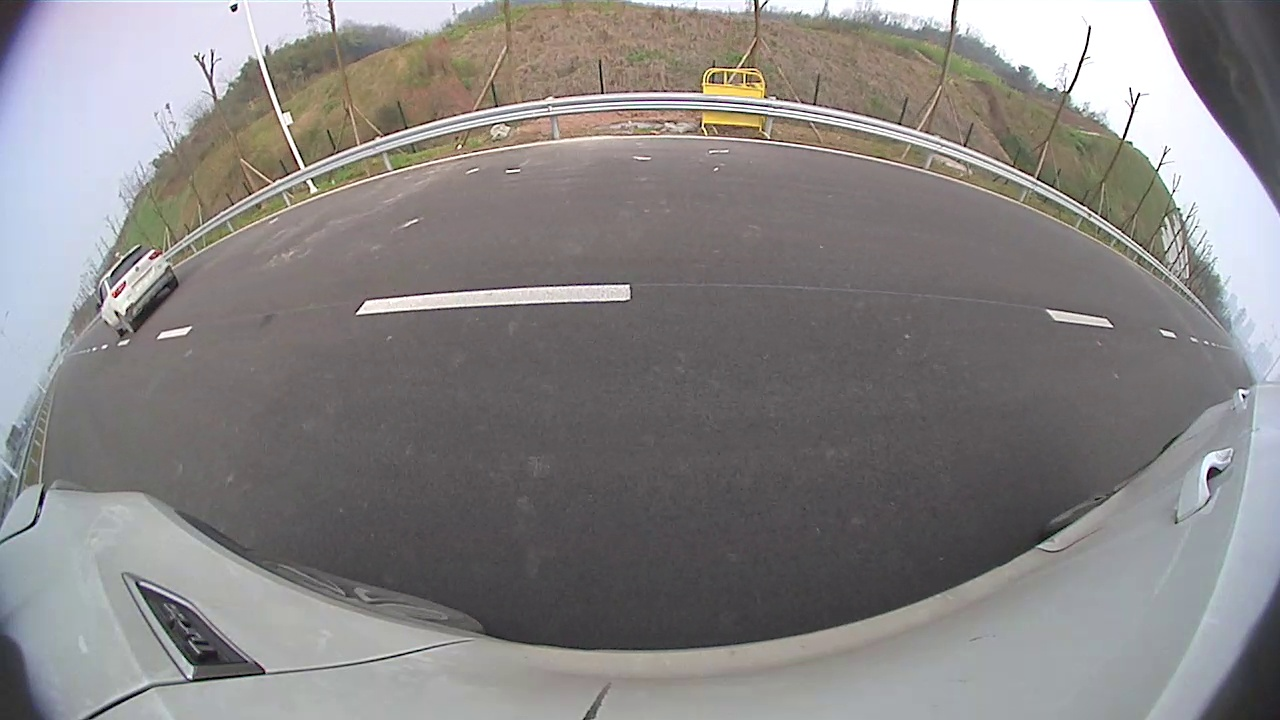car: (101, 134, 298, 289)
front: (167, 228, 204, 276)
rear: (116, 258, 141, 289)
